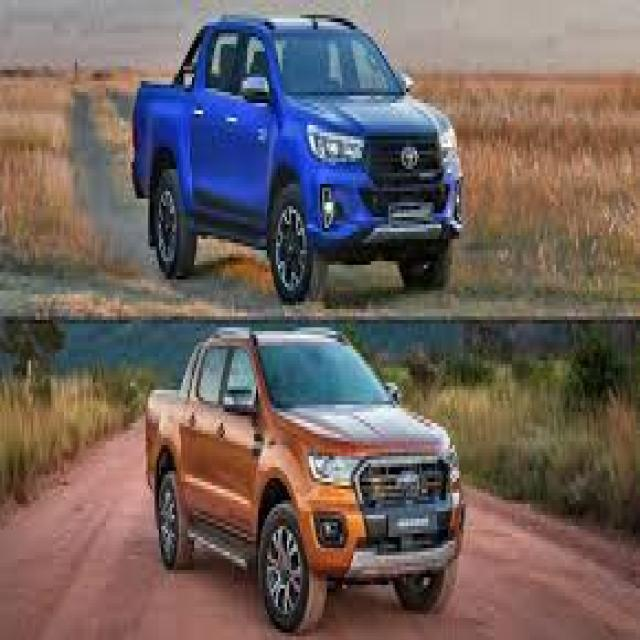Pickup Trucks: (130, 11, 463, 302), (148, 331, 466, 633)
